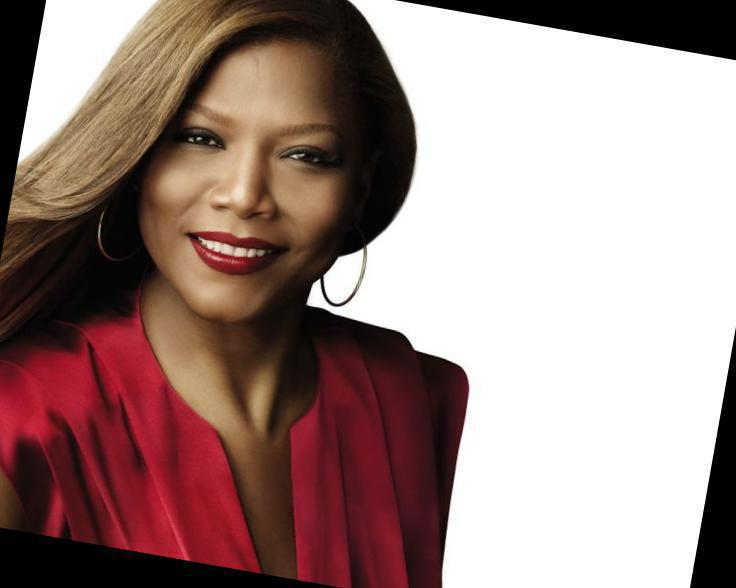Sober: (149, 34, 351, 314)
